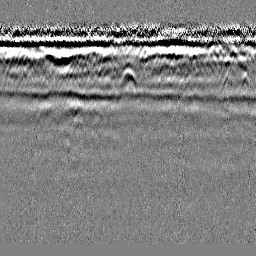cavity: (117, 65, 139, 88)
